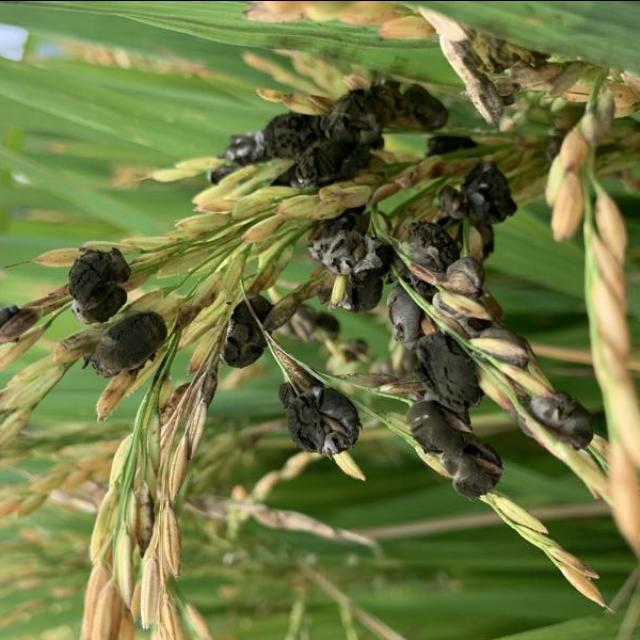Leaf_Scald: (218, 80, 566, 483), (68, 250, 162, 372), (0, 299, 39, 348)
